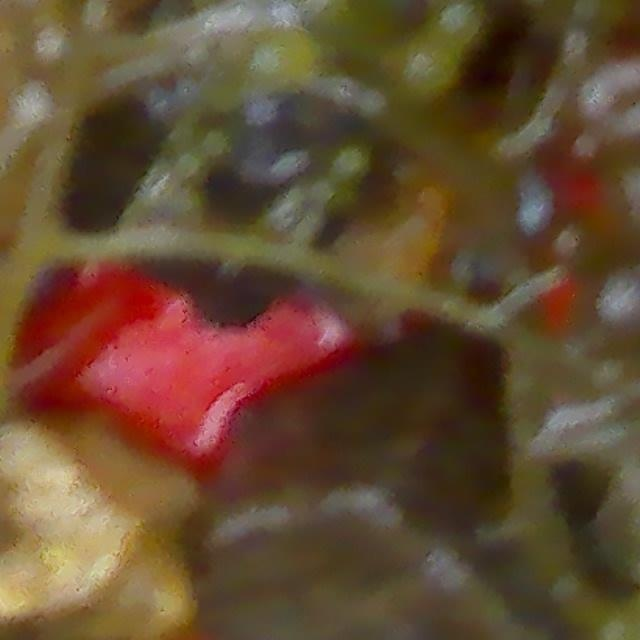SeaGrape: (590, 277, 640, 340)
